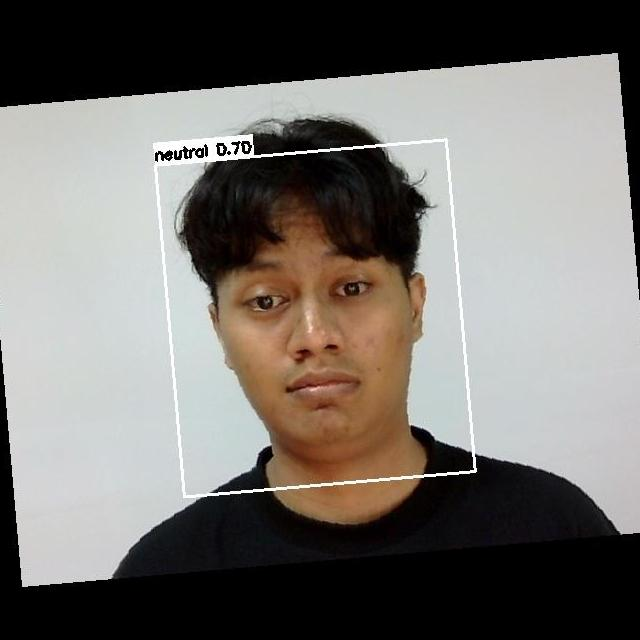Fear: (201, 226, 428, 421)
